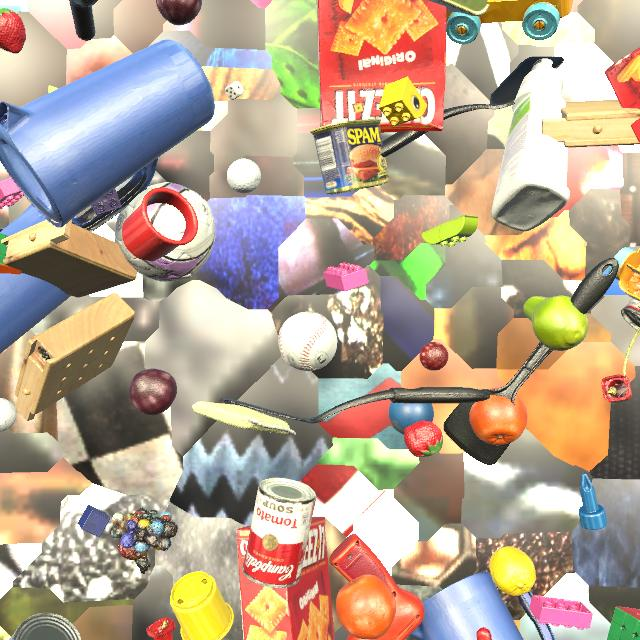ycb_003_cracker_box: (317, 0, 447, 133), (236, 516, 335, 640), (605, 47, 640, 143)
ycb_005_tomato_soup_can: (242, 478, 316, 588), (621, 298, 640, 333)
ycb_007_tuna_fish_can: (9, 612, 81, 640)
ycb_010_potted_meat_can: (310, 119, 389, 195), (428, 0, 490, 16)
ycb_012_strawberry: (404, 421, 443, 457), (0, 8, 26, 54)
ycb_014_lemon: (489, 546, 536, 596)
ycb_016_pear: (523, 296, 588, 351)
ycb_017_orange: (336, 574, 396, 639), (469, 387, 527, 445)
ycb_018_plum: (129, 369, 177, 416), (156, 0, 202, 25)
